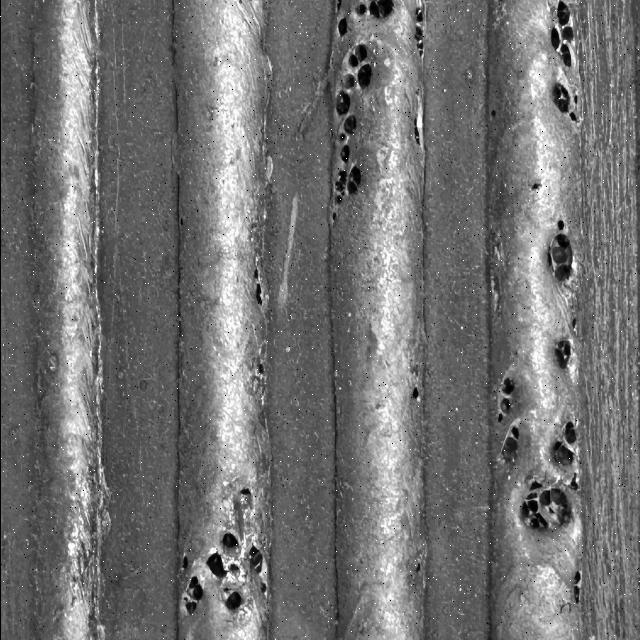Porosity: (549, 2, 578, 123), (520, 482, 572, 530), (548, 235, 572, 282), (182, 577, 202, 615), (500, 425, 519, 463), (552, 442, 574, 467), (414, 2, 424, 57), (554, 338, 571, 370), (206, 553, 225, 578), (346, 167, 360, 195), (356, 65, 371, 88), (249, 548, 262, 573), (562, 422, 576, 445), (335, 92, 349, 115), (572, 570, 581, 603), (221, 532, 238, 548), (377, 0, 392, 18), (225, 592, 240, 610), (342, 116, 356, 135), (334, 170, 345, 193), (502, 377, 514, 395), (368, 0, 380, 17), (354, 45, 366, 62), (342, 73, 354, 88), (413, 117, 419, 147), (499, 398, 510, 413), (340, 145, 349, 163), (569, 473, 578, 490), (338, 18, 346, 37), (355, 3, 366, 15), (255, 283, 261, 305), (349, 53, 358, 67), (411, 387, 419, 400), (229, 563, 239, 573), (556, 220, 564, 230), (181, 557, 188, 568), (239, 488, 250, 495), (258, 363, 264, 375), (253, 268, 258, 281), (531, 183, 540, 190), (335, 195, 341, 205), (260, 582, 265, 593), (339, 133, 345, 141), (498, 413, 502, 422)
